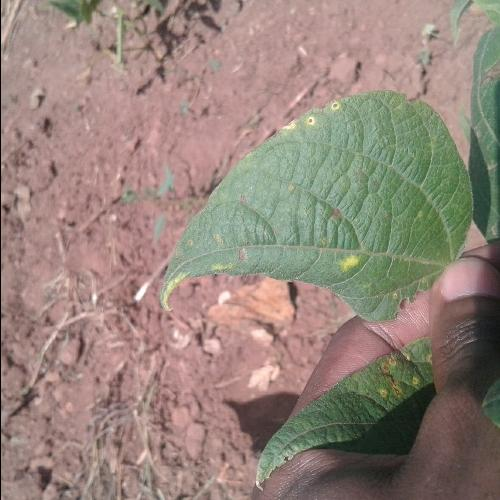mozaik: (231, 141, 457, 267)
